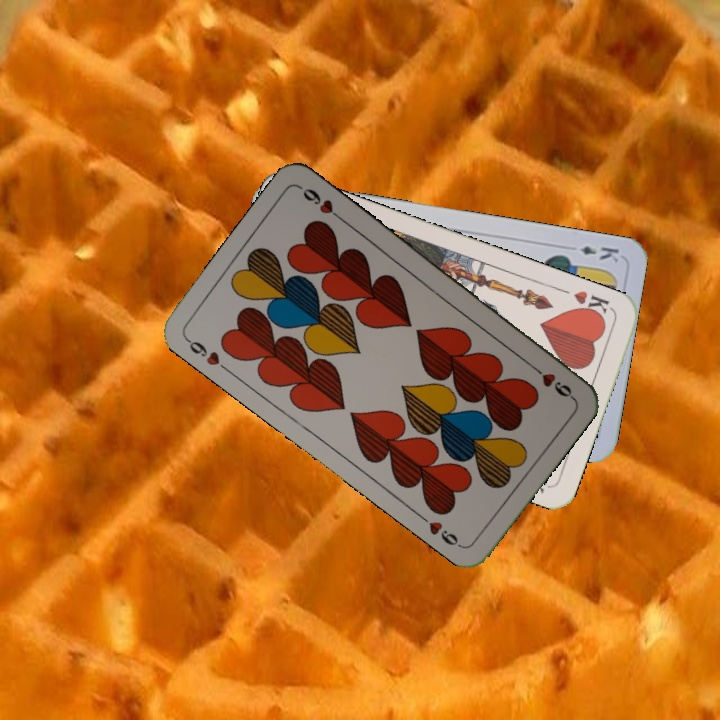EK: (576, 241, 622, 265)
H9: (526, 360, 576, 402), (182, 334, 233, 375)
HK: (569, 286, 615, 322)
